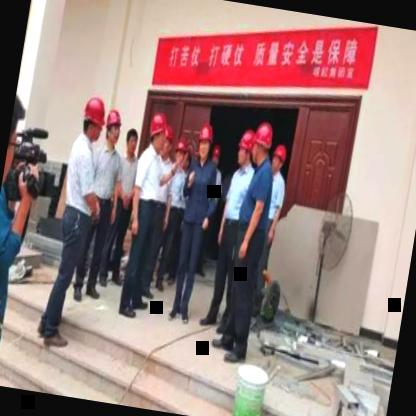head: (1, 80, 34, 190), (122, 126, 140, 159)
helmet: (76, 92, 108, 145), (247, 120, 274, 167), (144, 112, 172, 157), (193, 124, 217, 166), (266, 140, 290, 180), (101, 107, 124, 148), (234, 128, 255, 170), (171, 132, 189, 167), (158, 124, 176, 158)
